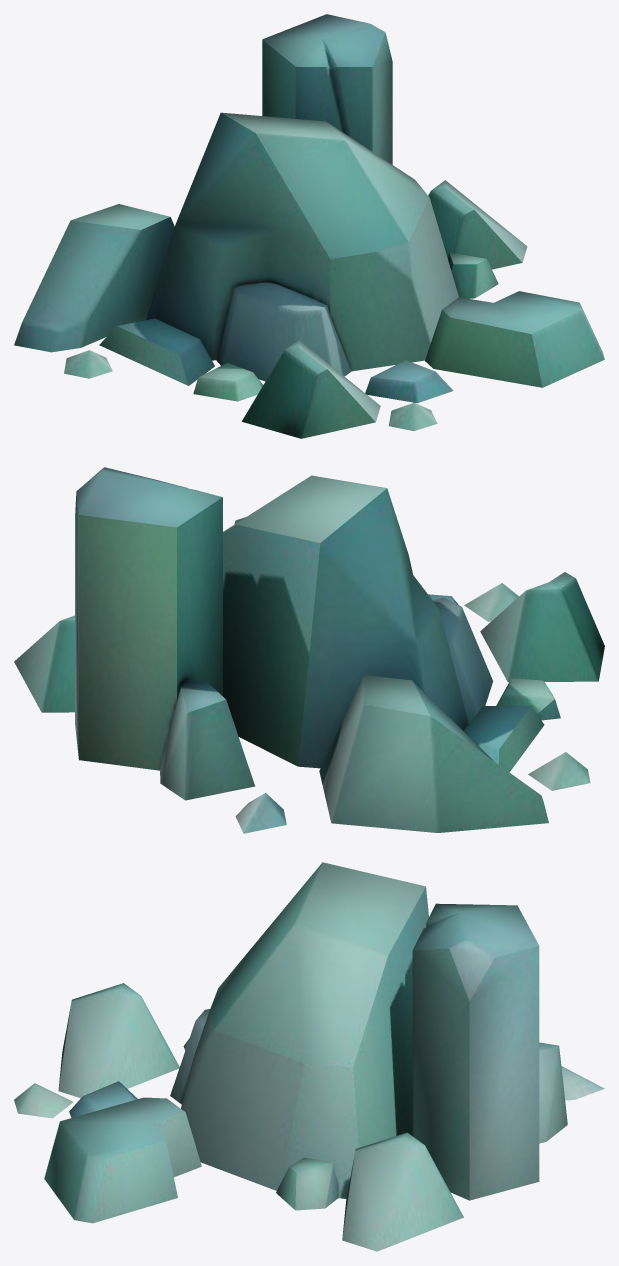
Rendered from Sce_worldmap_quarry_02.FBX.
The picture shows the model from 3 angles, top to bottom: view 1: azimuth 30°, elevation 25°; view 2: azimuth 150°, elevation 25°; view 3: azimuth 270°, elevation 25°; orthographic projection. The views are drawn at different scales.
Visible parts, largest first — view 1: Sce_worldmap_quarry_02; view 2: Sce_worldmap_quarry_02; view 3: Sce_worldmap_quarry_02.
Part boxes in pixels (x1,y1,x2,y2): Sce_worldmap_quarry_02: [14, 14, 604, 438]; Sce_worldmap_quarry_02: [14, 467, 604, 833]; Sce_worldmap_quarry_02: [14, 862, 604, 1251].
Size of the model in its own units: 59.24 by 25.83 by 55.69.
